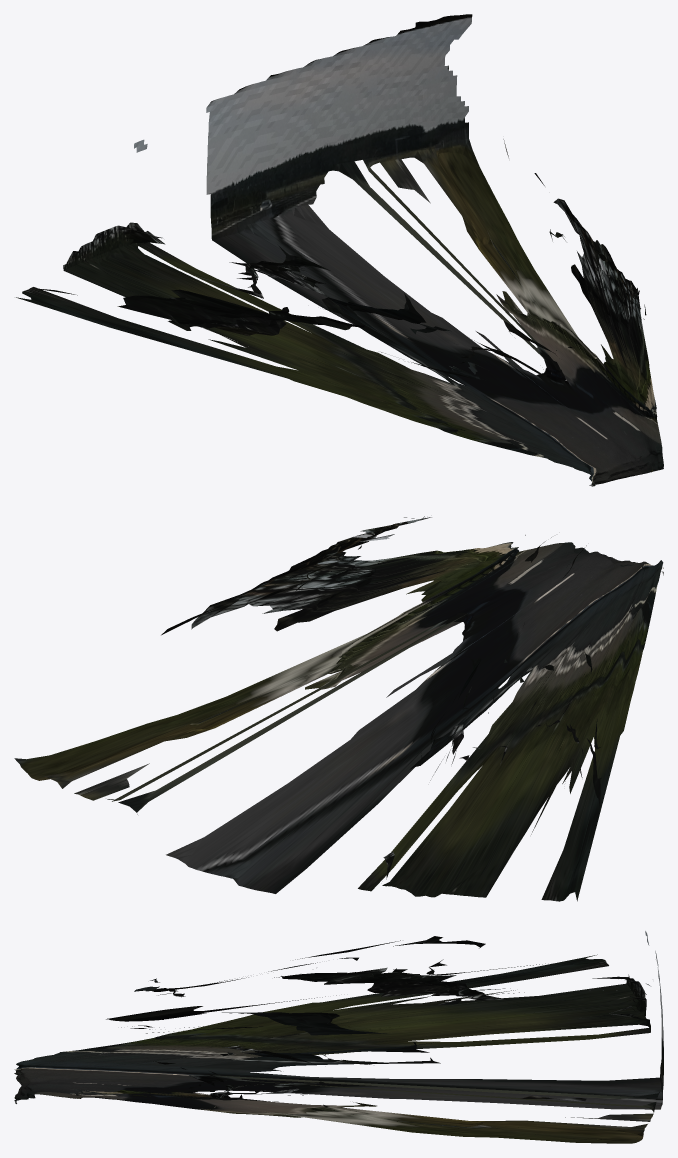
The picture shows the model from 3 angles, top to bottom: view 1: azimuth 30°, elevation 25°; view 2: azimuth 150°, elevation 25°; view 3: azimuth 270°, elevation 25°; orthographic projection. The views are drawn at different scales.
Parts seen in each view (by area): view 1: defaultobject; view 2: defaultobject; view 3: defaultobject.
Part boxes in pixels (x1=…): defaultobject: x1=16, y1=14, x2=663, y2=486; defaultobject: x1=14, y1=516, x2=663, y2=901; defaultobject: x1=14, y1=931, x2=663, y2=1143.
Size of the model in its own units: 33.45 by 12.37 by 44.29.
1 material, 1 textured.
